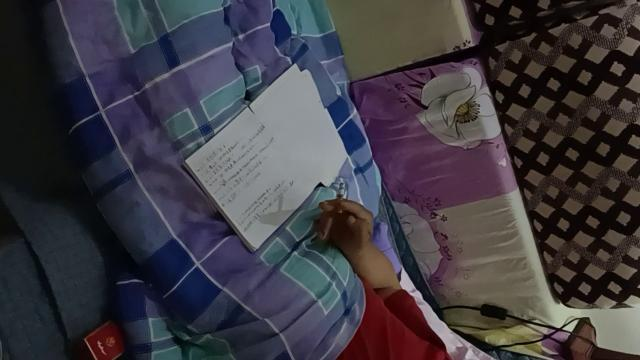Smoking: (338, 183, 344, 213)
